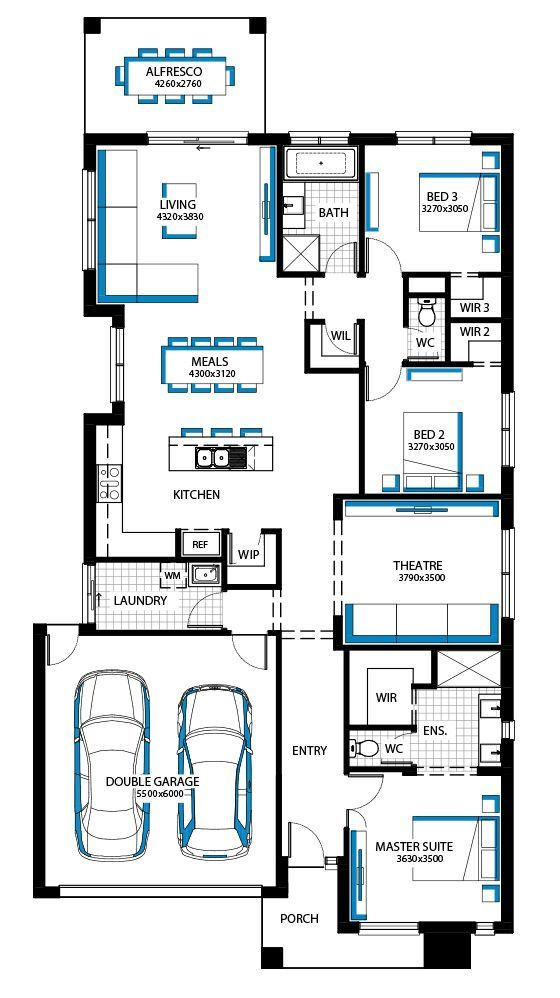door: (229, 636, 271, 673), (180, 591, 222, 628), (350, 771, 392, 808), (283, 815, 325, 852), (363, 368, 405, 405), (365, 234, 407, 271), (322, 236, 358, 270), (46, 639, 80, 669)
room: (84, 132, 283, 301), (331, 493, 513, 649), (357, 132, 512, 277), (358, 361, 514, 499), (343, 644, 513, 770)
window: (146, 130, 249, 147), (81, 170, 95, 270), (501, 527, 515, 617), (395, 135, 470, 151), (500, 391, 515, 466), (109, 326, 124, 401), (289, 128, 348, 146), (359, 920, 419, 936), (81, 562, 94, 623)
